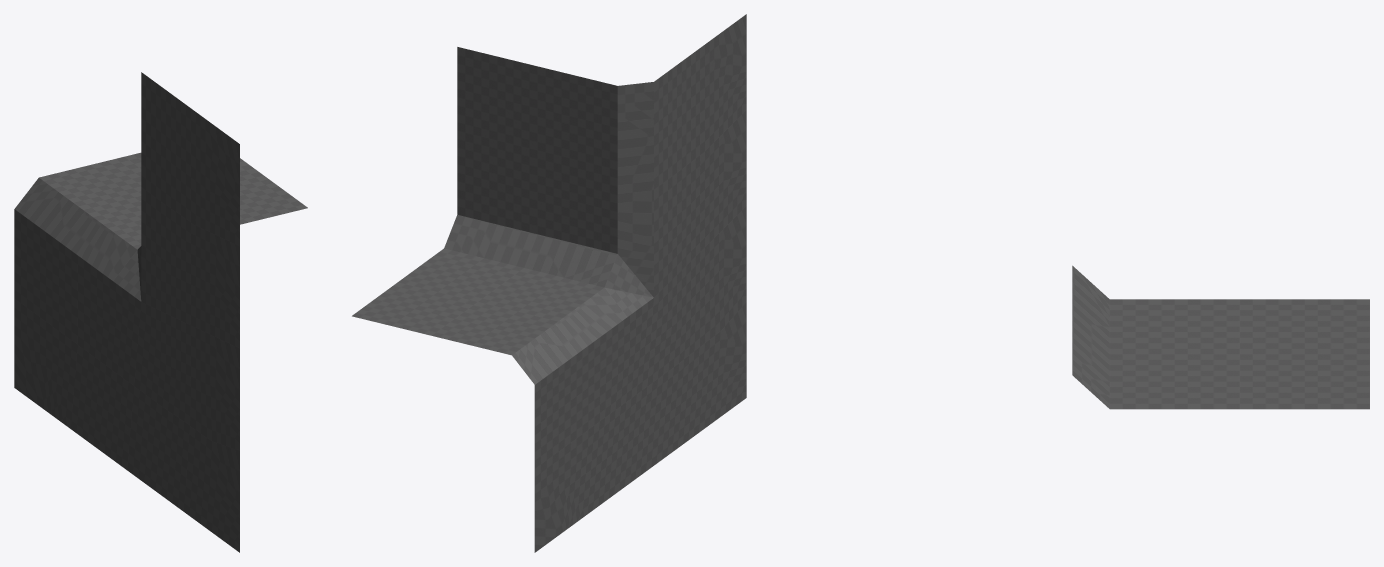
3 views of the same model, side by side, from view 1: azimuth 30°, elevation 25°; view 2: azimuth 150°, elevation 25°; view 3: azimuth 270°, elevation 25° (orthographic). The views are drawn at different scales.
Visible parts, largest first — view 1: 0; view 2: 0; view 3: 0.
Boxes of the visible parts, <box> form: 0: <box>14,72,307,552</box>; 0: <box>352,14,746,552</box>; 0: <box>1072,265,1369,409</box>.
Bounding box in the file's own units: 2 × 4 × 4.
1 material, 1 textured.
